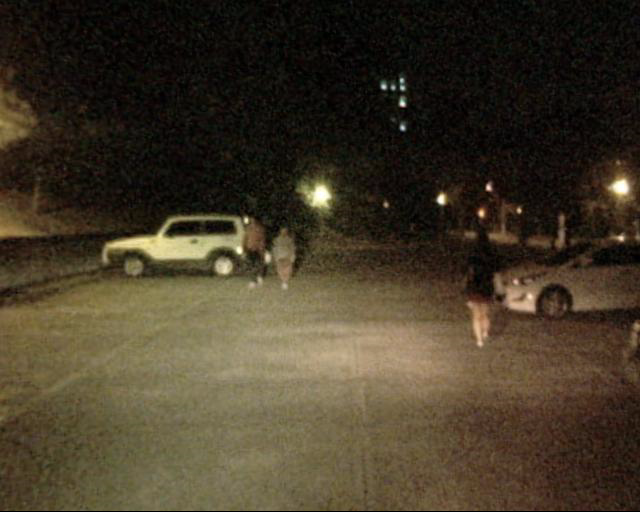person: (459, 231, 513, 359), (257, 209, 306, 296), (239, 206, 272, 289), (413, 216, 433, 249), (397, 219, 417, 249)
